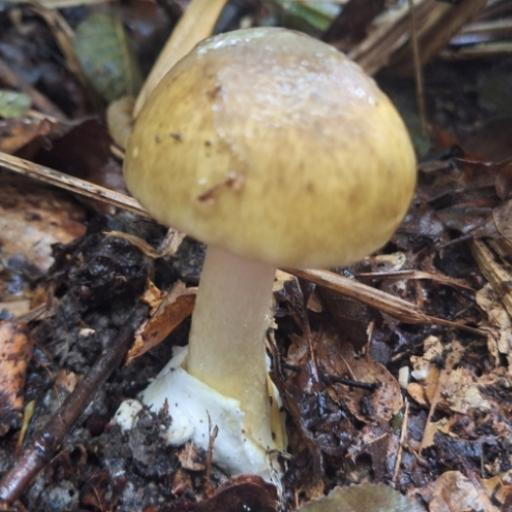mushroom: (11, 0, 458, 488)
